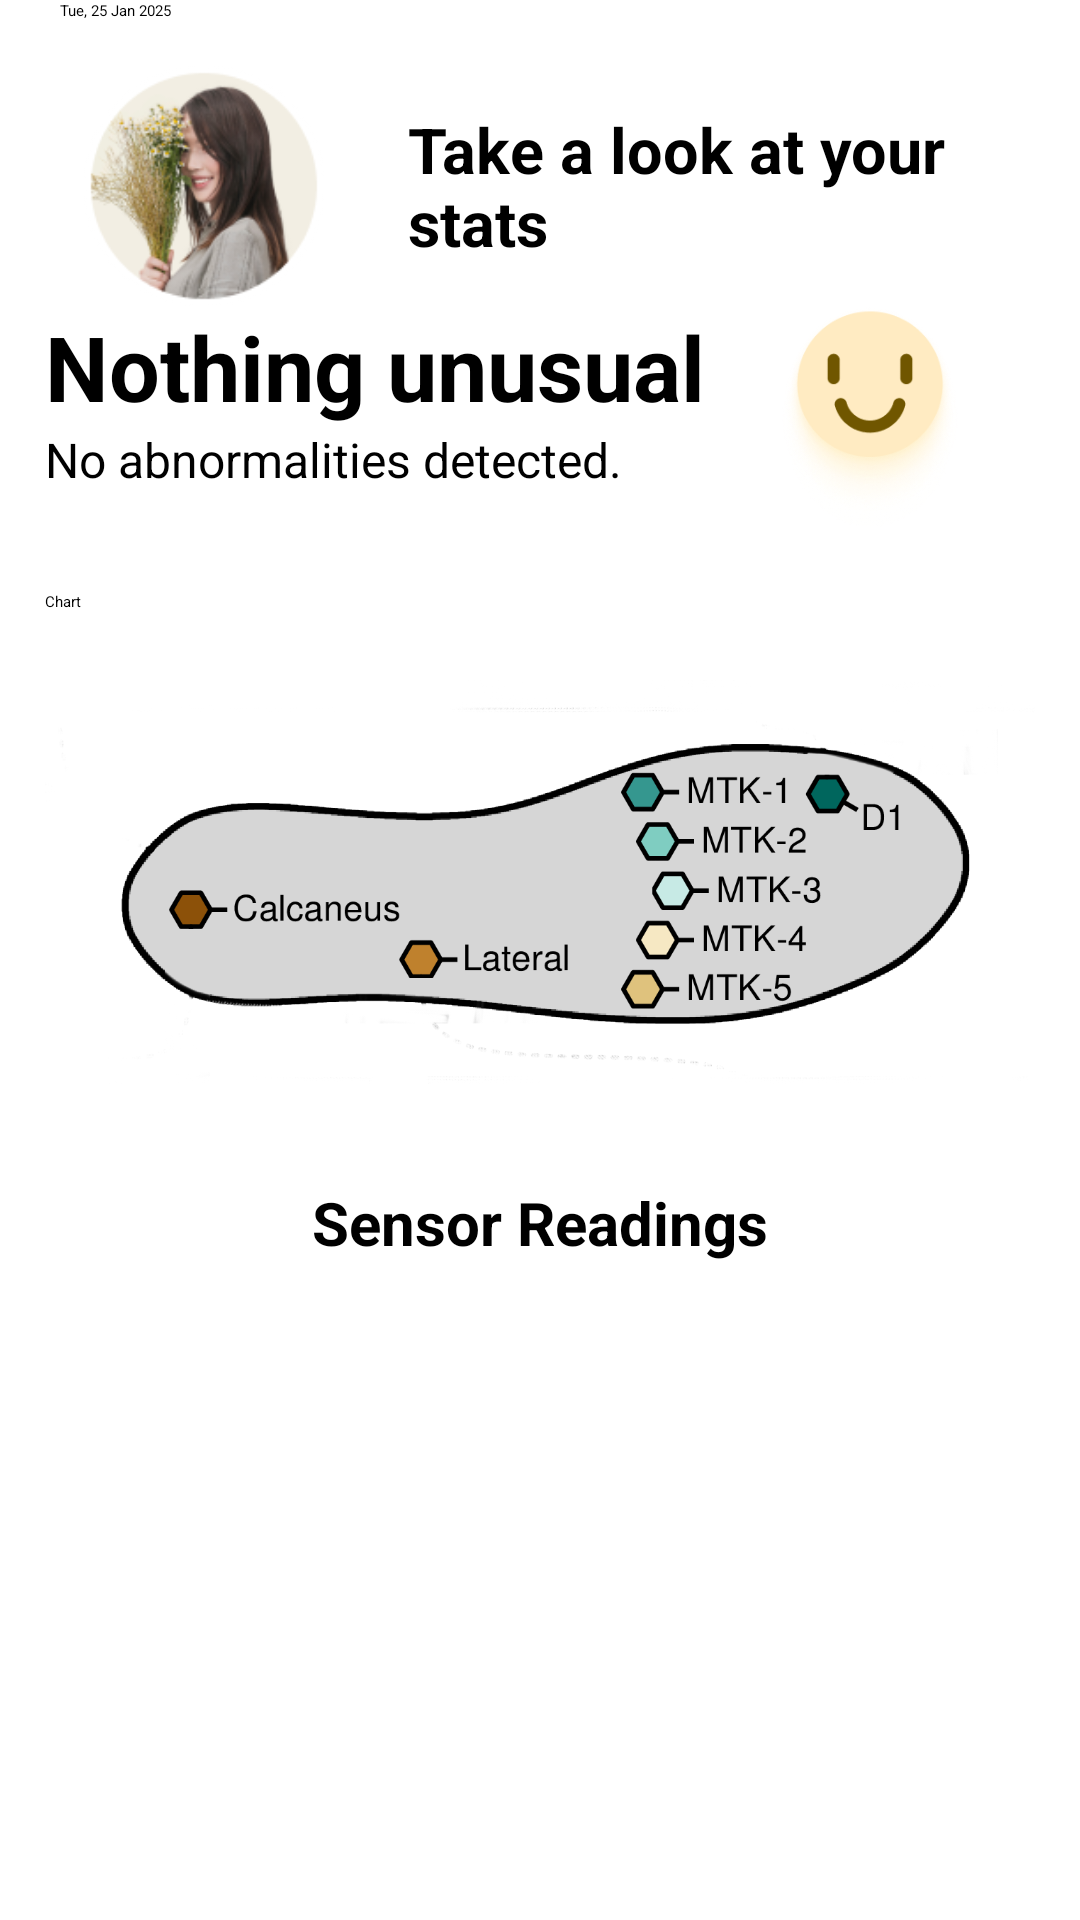

Icon click points for this 1080×1920 phone screenshot, format [x,y]:
profile: [203,186]
smile: [870,392]
